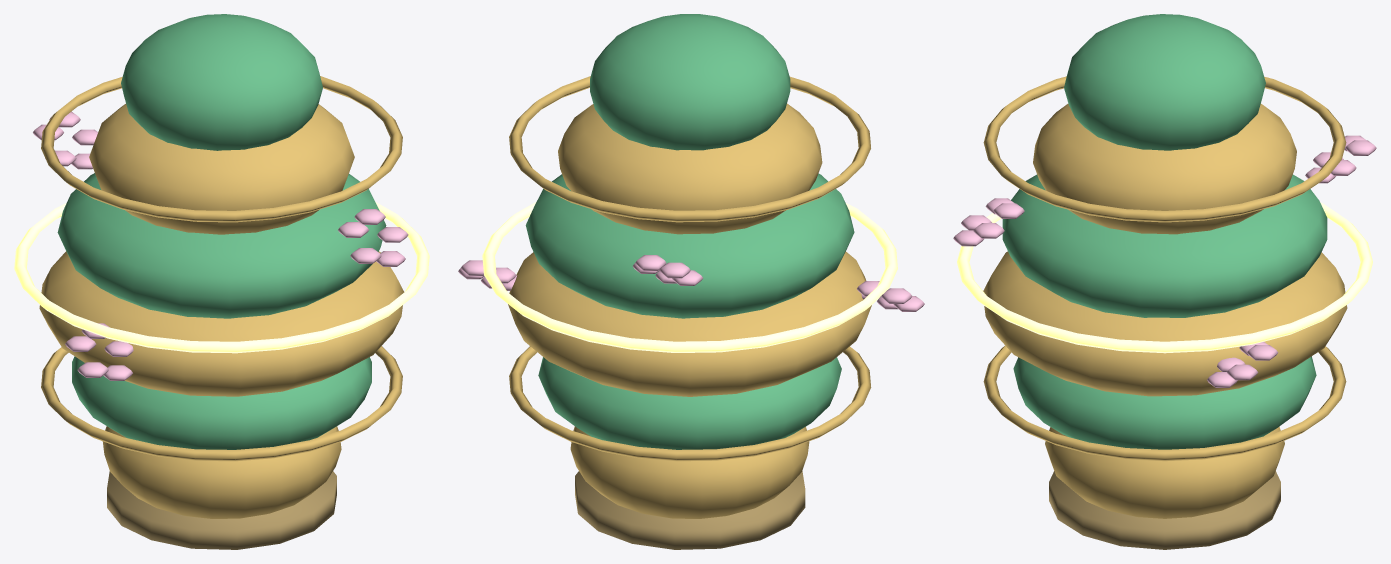
File: egg_jungle_07.glb
3 views of the same model, side by side, from view 1: azimuth 30°, elevation 25°; view 2: azimuth 150°, elevation 25°; view 3: azimuth 270°, elevation 25° (orthographic).
Visible parts, largest first — view 1: ball; view 2: ball; view 3: ball.
Part boxes in pixels (x1,y1,x2,y2): ball: (14,14,429,549); ball: (458,14,924,549); ball: (953,14,1376,549).
Bounding box in the file's own units: 0.8208 × 0.99 × 0.8038.
